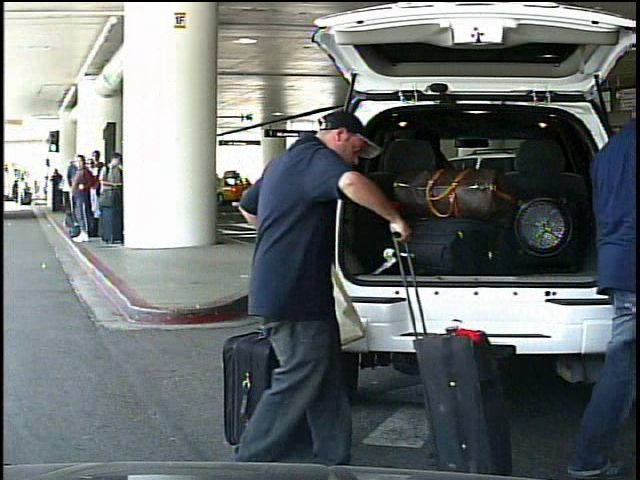person: (233, 99, 413, 475), (18, 177, 29, 207)
